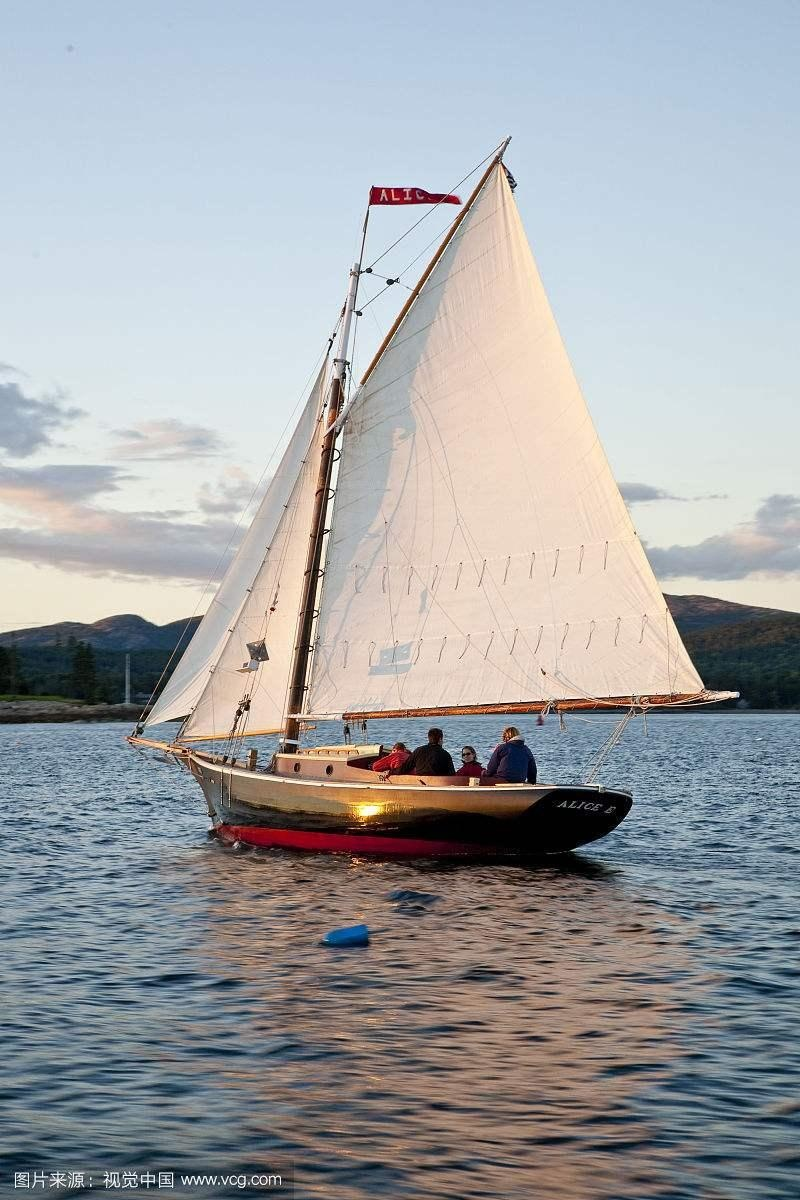fanchuan: (118, 132, 703, 866)
person: (374, 723, 455, 780), (487, 716, 541, 789), (451, 742, 493, 796), (369, 739, 413, 773)
